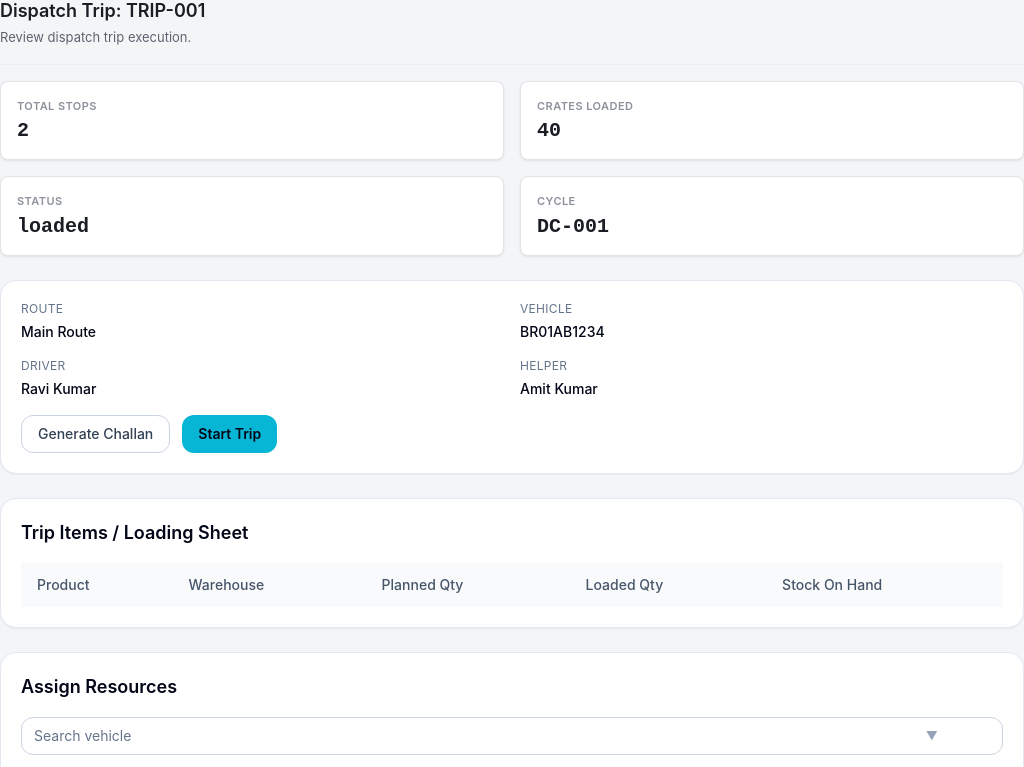
Scenario: DispatchTripDetailView › starts a loaded trip from the detail action
Expected: the heading "Dispatch Trip: TRIP-001" is shown, [0,0,205,22]
Click the button "Start Trip": (230, 434) [182,415,277,453]
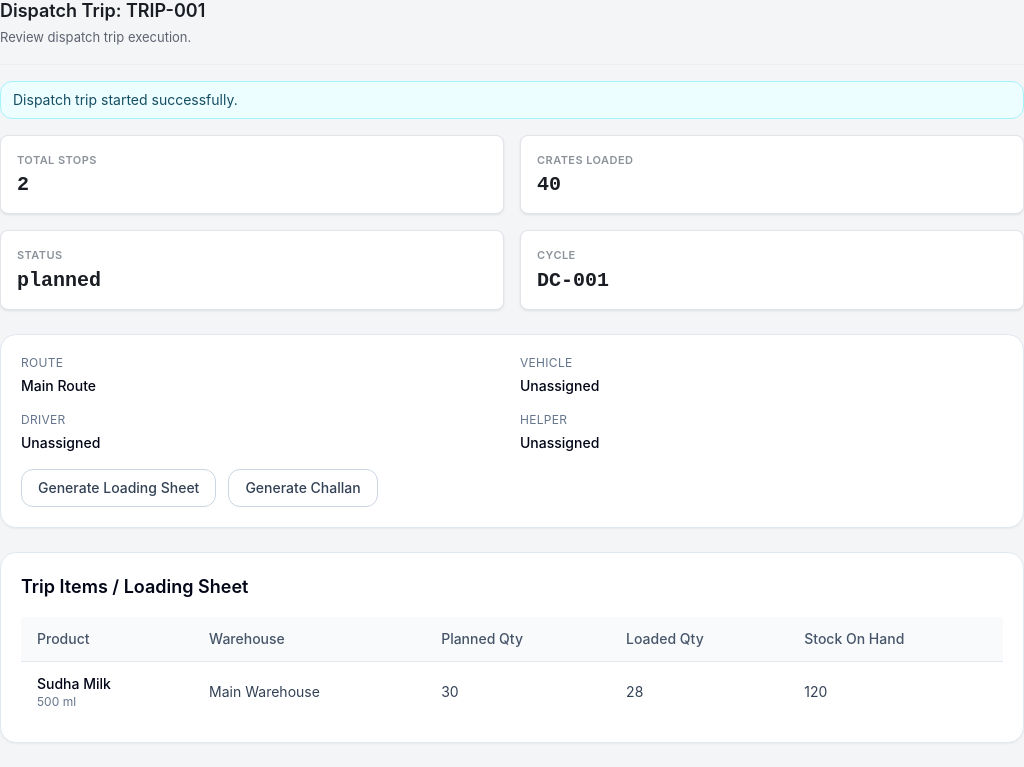
Expected: the text "Dispatch trip started successfully." is shown, [0,81,1023,119]
